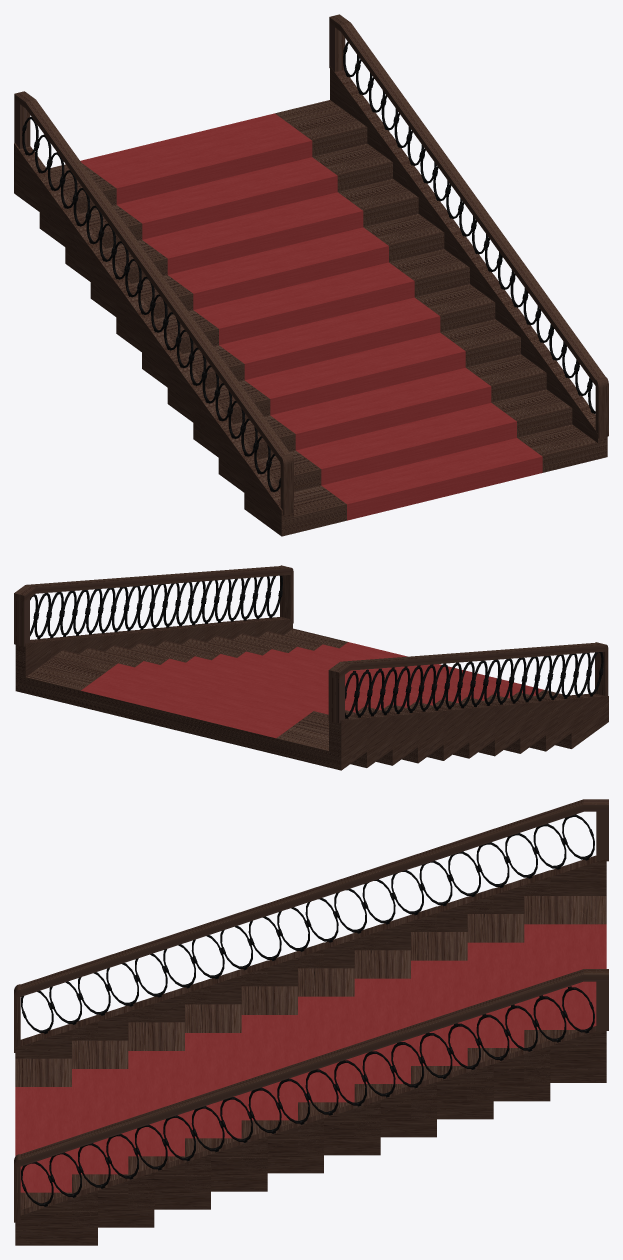
Rendered from stairsfinal.fbx.
3 renders of one model, top to bottom at view 1: azimuth 30°, elevation 25°; view 2: azimuth 150°, elevation 25°; view 3: azimuth 270°, elevation 25°, orthographic. The views are drawn at different scales.
Visible parts, largest first — view 1: Cube.003, Cube, Cube.001, Cube.002, Torus.001, Torus.002; view 2: Cube, Cube.003, Torus.001, Torus.002, Cube.001, Cube.002; view 3: Cube, Cube.003, Cube.001, Cube.002, Torus.002, Torus.001.
Part boxes in pixels (x1,y1,x2,y2): Cube.003: (80, 113, 542, 520); Cube: (14, 66, 607, 536); Cube.001: (329, 14, 608, 438); Cube.002: (14, 91, 293, 515); Torus.001: (22, 117, 280, 491); Torus.002: (343, 41, 595, 413); Cube: (15, 617, 608, 770); Cube.003: (81, 642, 543, 738); Torus.001: (345, 652, 603, 718); Torus.002: (30, 575, 282, 639); Cube.001: (14, 565, 293, 646); Cube.002: (328, 642, 608, 723); Cube: (15, 855, 606, 1245); Cube.003: (15, 924, 606, 1192); Cube.001: (14, 969, 608, 1222); Cube.002: (14, 799, 608, 1052); Torus.002: (21, 986, 594, 1206); Torus.001: (21, 814, 594, 1034).
Size of the model in its own units: 200 by 144 by 286.
